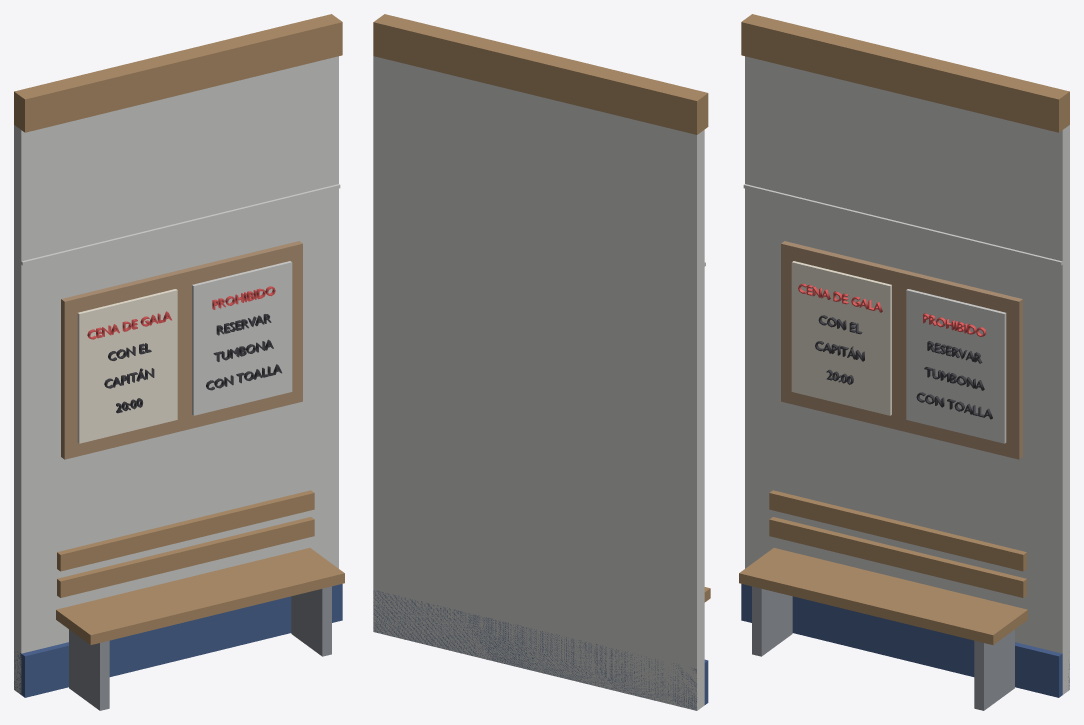
Rendered from CR_Fachada_D.fbx.
3 views of the same model, side by side, from view 1: azimuth 30°, elevation 25°; view 2: azimuth 150°, elevation 25°; view 3: azimuth 330°, elevation 25° (orthographic).
Parts seen in each view (by area): view 1: CR_Fachada_D; view 2: CR_Fachada_D; view 3: CR_Fachada_D.
Boxes of the visible parts, bbox=[...] form: CR_Fachada_D: bbox=[14, 14, 344, 710]; CR_Fachada_D: bbox=[373, 14, 710, 710]; CR_Fachada_D: bbox=[739, 14, 1069, 710].
Bounding box in the file's own units: 2 × 3.6 × 0.49.
